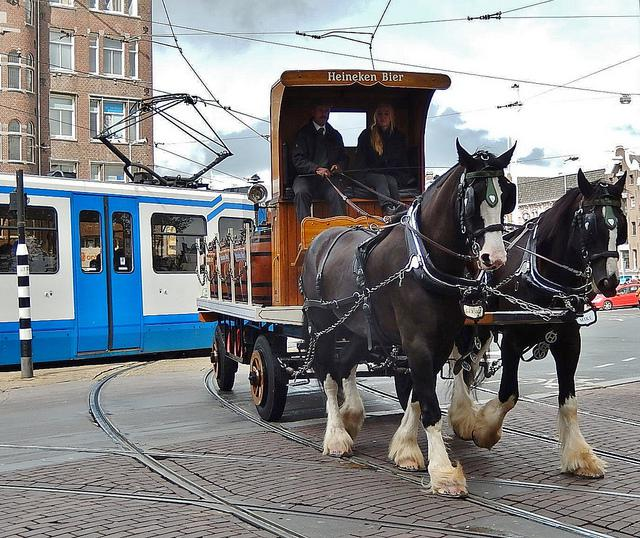Train: (5, 176, 273, 370)
